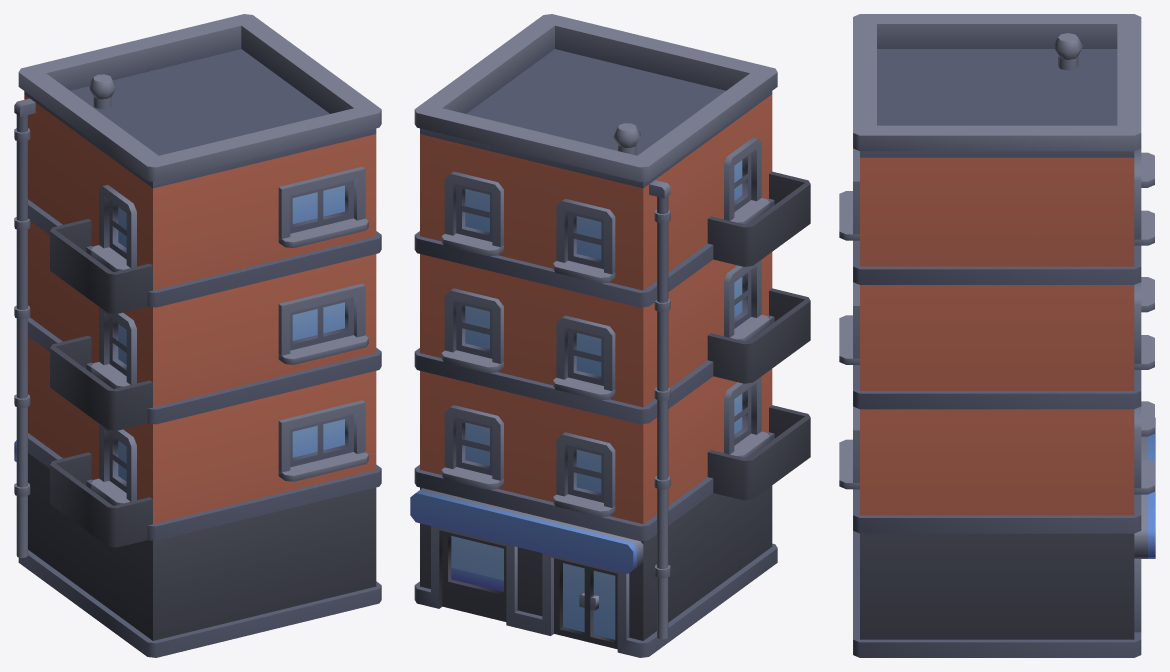
File: building-g-b.glb
3 renders of one model, left to right at view 1: azimuth 30°, elevation 25°; view 2: azimuth 150°, elevation 25°; view 3: azimuth 270°, elevation 25°, orthographic. The views are drawn at different scales.
Visible parts, largest first — view 1: building-g; view 2: building-g; view 3: building-g.
Part boxes in pixels (bbox=[...]): building-g: bbox=[14, 14, 381, 657]; building-g: bbox=[410, 14, 810, 657]; building-g: bbox=[839, 14, 1155, 657].
Size of the model in its own units: 0.97 by 1.69 by 0.922.
Materials: 1 (1 with a texture image).
